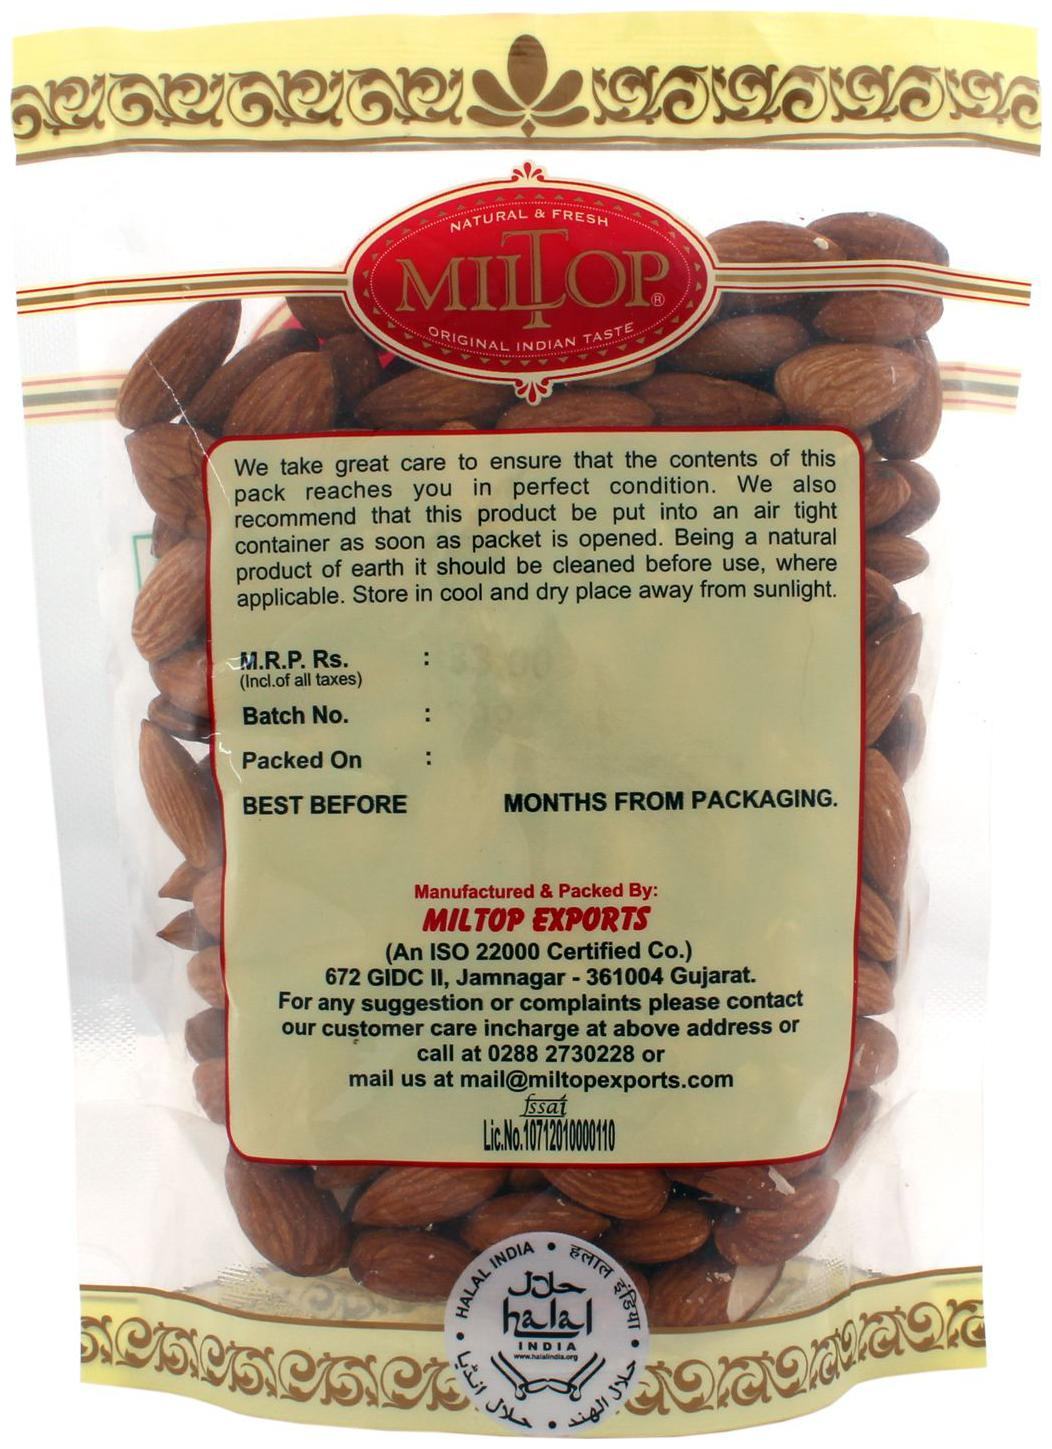fssai: (518, 1092, 570, 1116)
